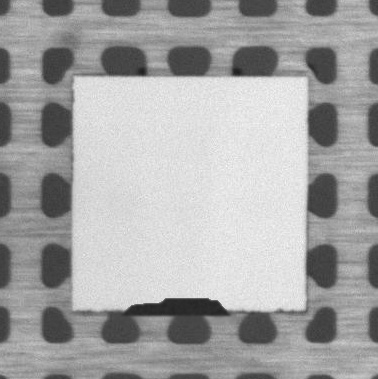DIE_BROKEN: (128, 295, 233, 314)
